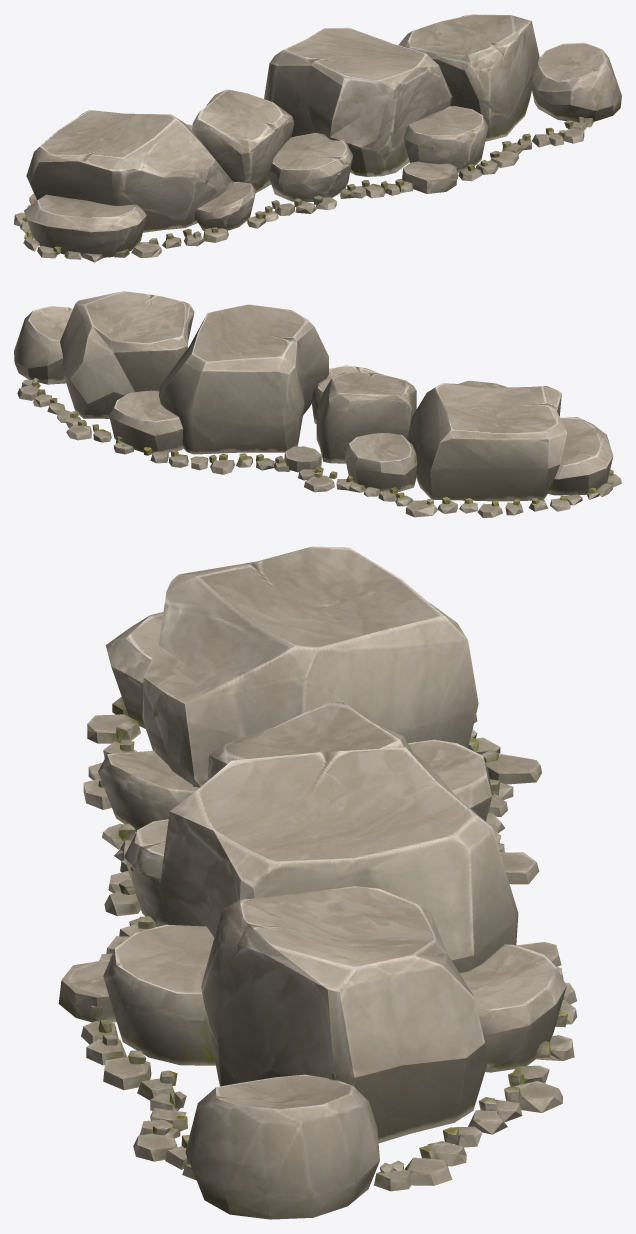
File: river_rock_cluster_b.glb
The picture shows the model from 3 angles, top to bottom: view 1: azimuth 30°, elevation 25°; view 2: azimuth 150°, elevation 25°; view 3: azimuth 270°, elevation 25°; orthographic projection. The views are drawn at different scales.
Visible parts, largest first — view 1: river_rock_cluster_b; view 2: river_rock_cluster_b; view 3: river_rock_cluster_b.
Part boxes in pixels (bbox=[...]): river_rock_cluster_b: bbox=[14, 14, 621, 262]; river_rock_cluster_b: bbox=[14, 291, 621, 517]; river_rock_cluster_b: bbox=[58, 546, 576, 1219].
Size of the model in its own units: 1.56 by 0.25 by 0.6033.
1 material, 1 textured.
